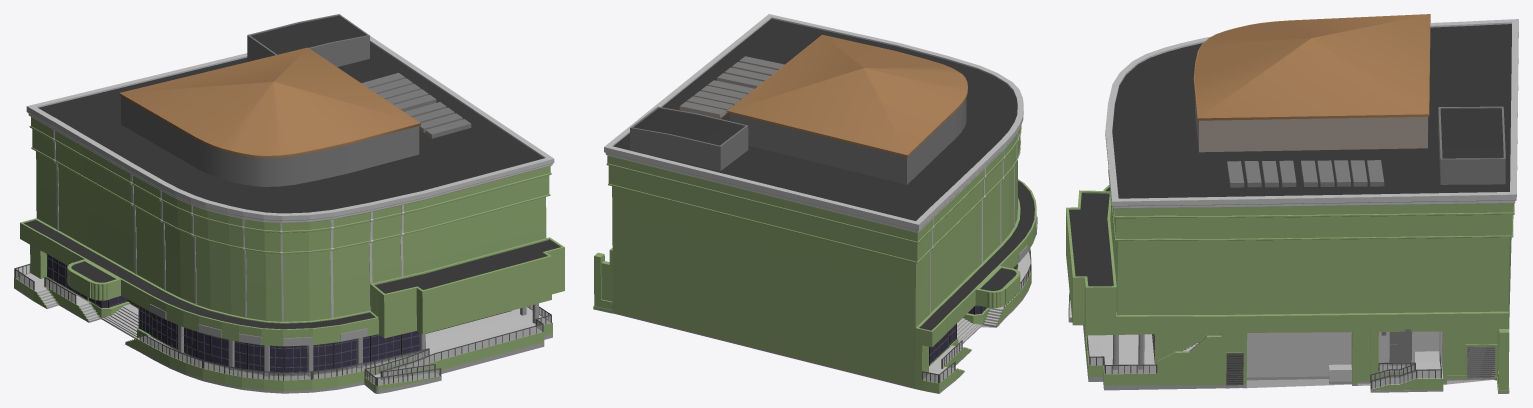
Rendered from SM_MetroPoint.fbx.
3 renders of one model, left to right at view 1: azimuth 30°, elevation 25°; view 2: azimuth 150°, elevation 25°; view 3: azimuth 270°, elevation 25°, orthographic. The views are drawn at different scales.
Parts seen in each view (by area): view 1: polySurface695; view 2: polySurface695; view 3: polySurface695.
Part boxes in pixels (box(x1,y1,x2,y2)): polySurface695: box(14, 14, 564, 393); polySurface695: box(593, 14, 1037, 393); polySurface695: box(1066, 14, 1518, 393).
Bounding box in the file's own units: 6066 × 3656 × 5918.
